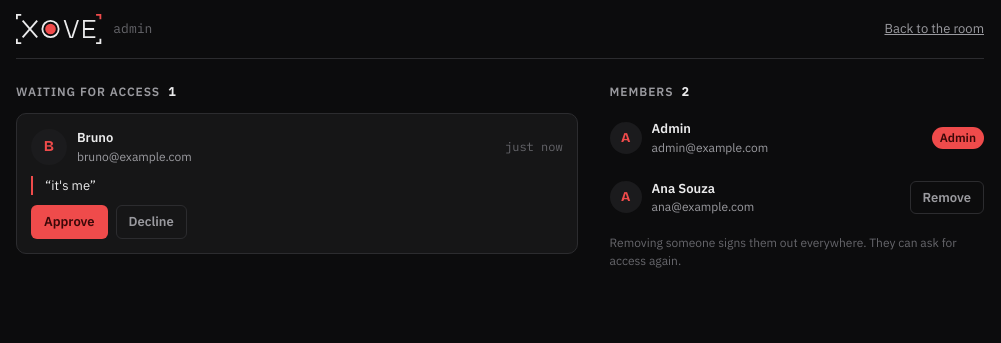
admin page › shows the API's error when an action fails
This screenshot has width=1001, height=343.
Click the button "Approve" at (69, 222), box [31,205,108,238]
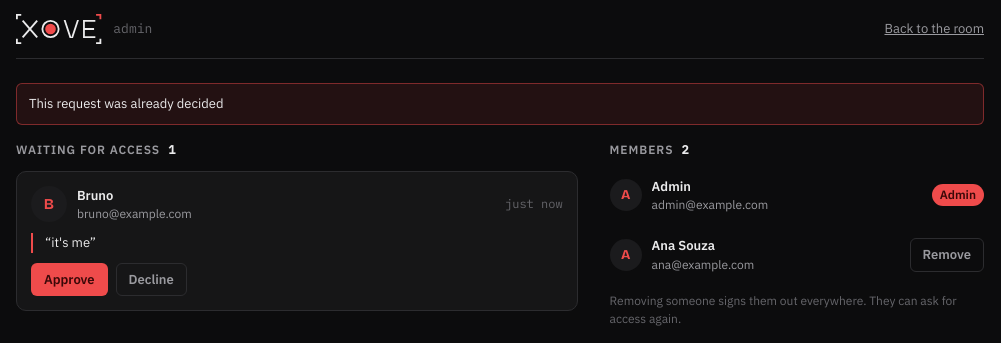
Expected: the message reads "This request was already decided", [29,95,224,112]
